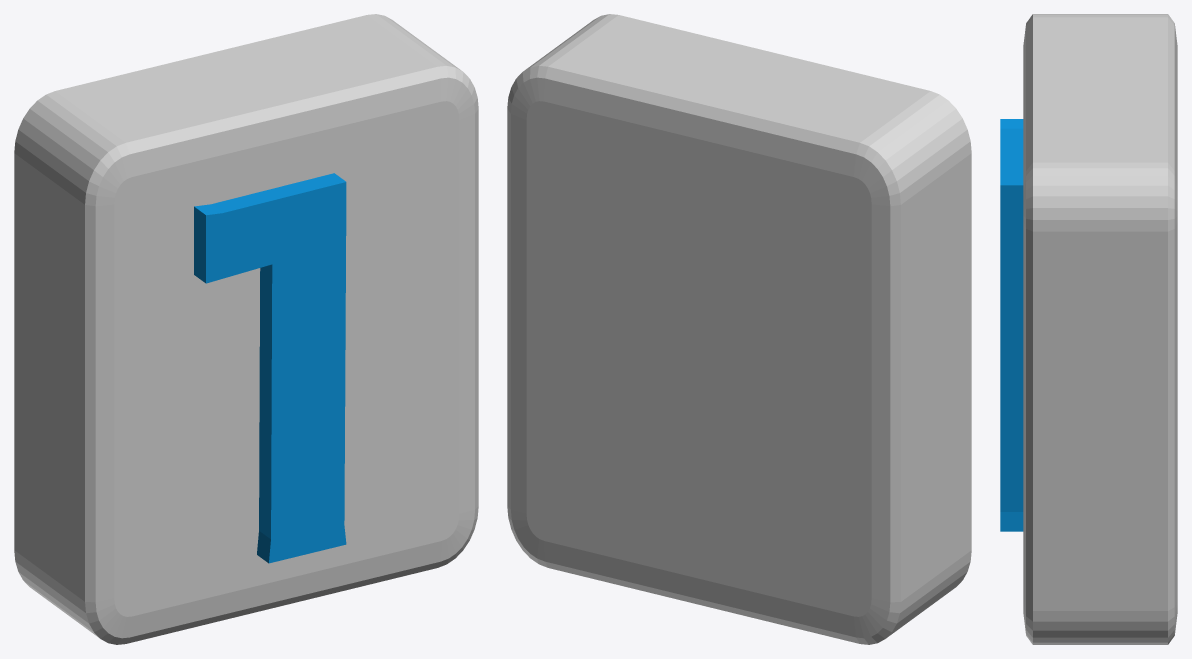
The picture shows the model from 3 angles, left to right: view 1: azimuth 30°, elevation 25°; view 2: azimuth 150°, elevation 25°; view 3: azimuth 270°, elevation 25°; orthographic projection. The views are drawn at different scales.
Parts seen in each view (by area): view 1: Box1; view 2: Box1; view 3: Box1.
Part boxes in pixels (x1,y1,x2,y2): Box1: [14, 14, 478, 644]; Box1: [507, 14, 971, 644]; Box1: [1000, 14, 1177, 644].
Bounding box in the file's own units: 56.15 × 68.31 × 22.91.
